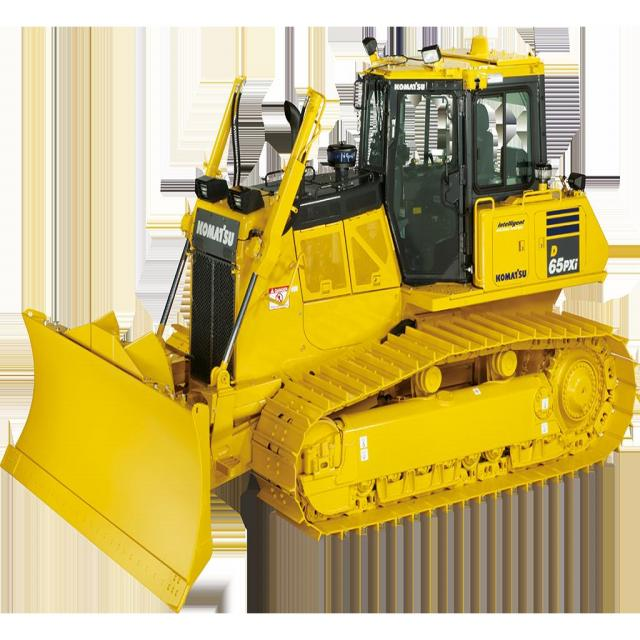Bulldozer: (10, 36, 639, 628)
